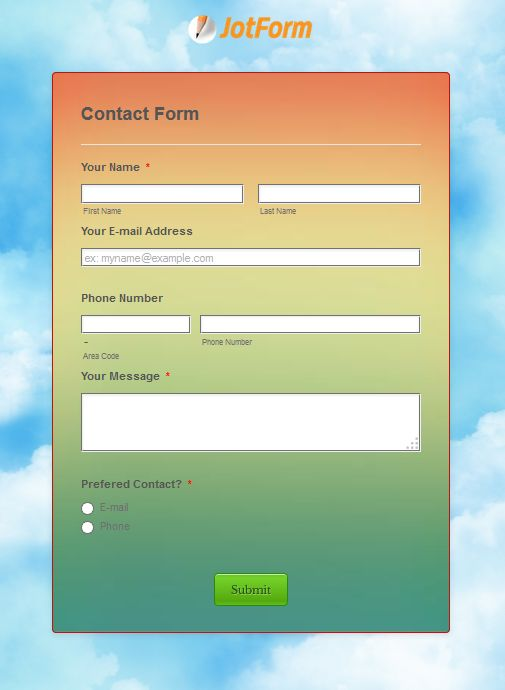_form_: (41, 77, 457, 494), (40, 274, 456, 690)
button: (214, 573, 288, 607)
field: (80, 393, 422, 453), (80, 246, 421, 266), (198, 313, 422, 335), (79, 183, 244, 204), (257, 184, 421, 204), (80, 314, 191, 333)
radio: (80, 519, 95, 535), (82, 500, 95, 516)
